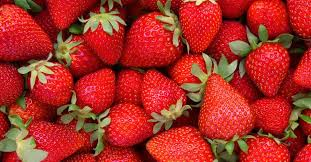Fresa: (195, 71, 256, 149), (119, 9, 185, 71), (240, 38, 295, 100), (1, 2, 54, 66), (137, 66, 189, 128), (17, 116, 87, 162), (98, 101, 163, 150), (145, 123, 224, 162), (80, 11, 129, 67), (176, 1, 224, 57), (24, 59, 75, 111), (72, 66, 117, 119), (251, 94, 296, 141)
